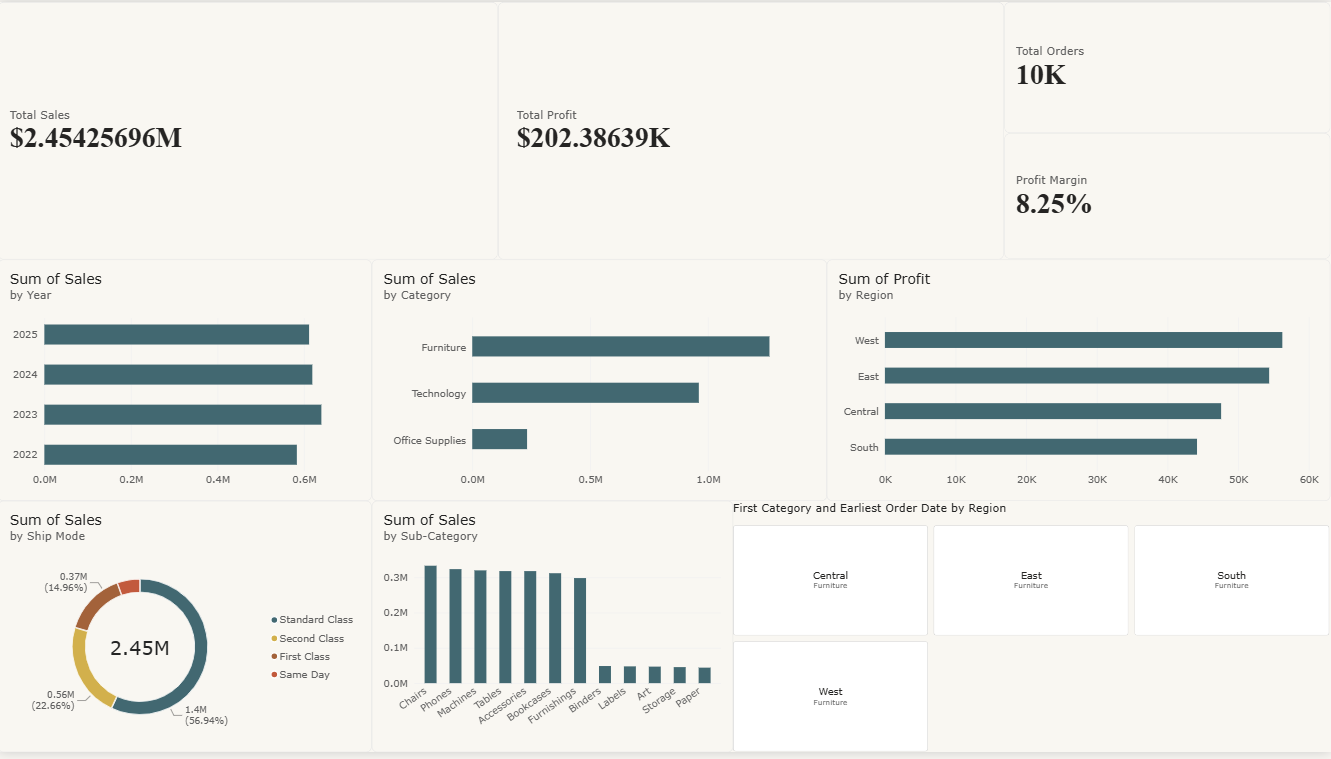

The page's visual inventory and layout, read from the dashboard file:
{"tool":"powerbi","page":{"name":"Page 1","canvas":[1920,1080],"ordinal":0},"visuals":[{"type":"barChart","fields":{"Category":["retail_sales_raw.Order Date.Variation.Date Hierarchy.Year","retail_sales_raw.Order Date.Variation.Date Hierarchy.Quarter","retail_sales_raw.Order Date.Variation.Date Hierarchy.Month","retail_sales_raw.Order Date.Variation.Date Hierarchy.Day"],"Y":["Sum(retail_sales_raw.Sales)"]},"box":[0,371,538.5,347.6],"z":4000},{"type":"barChart","fields":{"Category":["retail_sales_raw.Category"],"Y":["Sum(retail_sales_raw.Sales)"]},"box":[538.5,371,655.6,347.6],"z":5000},{"type":"barChart","fields":{"Category":["retail_sales_raw.Region"],"Y":["Sum(retail_sales_raw.Profit)"]},"box":[1194.1,371,725.9,347.6],"z":6000},{"type":"donutChart","fields":{"Category":["retail_sales_raw.Ship Mode"],"Y":["Sum(retail_sales_raw.Sales)"]},"box":[0,718.6,538.5,362],"z":7000},{"type":"clusteredColumnChart","fields":{"Category":["retail_sales_raw.Sub-Category"],"Y":["Sum(retail_sales_raw.Sales)"]},"box":[538.5,718.6,520.5,362],"z":8000},{"type":"advancedSlicerVisual","fields":{"Label":["Min(retail_sales_raw.Category)"],"Values":["retail_sales_raw.Region"]},"box":[1059.1,718.6,860.9,362],"z":8001},{"type":"cardVisual","fields":{"Data":["retail_sales_raw.Total Sales"]},"box":[0,0,720.5,371],"z":8002},{"type":"cardVisual","fields":{"Data":["retail_sales_raw.Total Profit"]},"box":[720.5,0,729.5,371],"z":8003},{"type":"cardVisual","fields":{"Data":["retail_sales_raw.Total Orders"]},"box":[1449.9,0,470.1,189.1],"z":8004},{"type":"cardVisual","fields":{"Data":["retail_sales_raw.Profit Margin"]},"box":[1449.9,189.1,470.1,181.9],"z":8005}]}

Visuals, with their boxes in screenshot pixels (x1, y1, x2, y2), scaled from the page's 1920x1080 canvas onto the 1331x759 screenshot:
barChart - retail_sales_raw.Order Date.Variation.Date Hierarchy.Year x retail_sales_raw.Order Date.Variation.Date Hierarchy.Quarter: region(0, 261, 373, 505)
barChart - retail_sales_raw.Category x Sum(retail_sales_raw.Sales): region(373, 261, 828, 505)
barChart - retail_sales_raw.Region x Sum(retail_sales_raw.Profit): region(828, 261, 1330, 505)
donutChart - retail_sales_raw.Ship Mode x Sum(retail_sales_raw.Sales): region(0, 505, 373, 758)
clusteredColumnChart - retail_sales_raw.Sub-Category x Sum(retail_sales_raw.Sales): region(373, 505, 734, 758)
advancedSlicerVisual - Min(retail_sales_raw.Category) x retail_sales_raw.Region: region(734, 505, 1330, 758)
cardVisual - retail_sales_raw.Total Sales: region(0, 0, 499, 261)
cardVisual - retail_sales_raw.Total Profit: region(499, 0, 1005, 261)
cardVisual - retail_sales_raw.Total Orders: region(1005, 0, 1330, 133)
cardVisual - retail_sales_raw.Profit Margin: region(1005, 133, 1330, 261)
